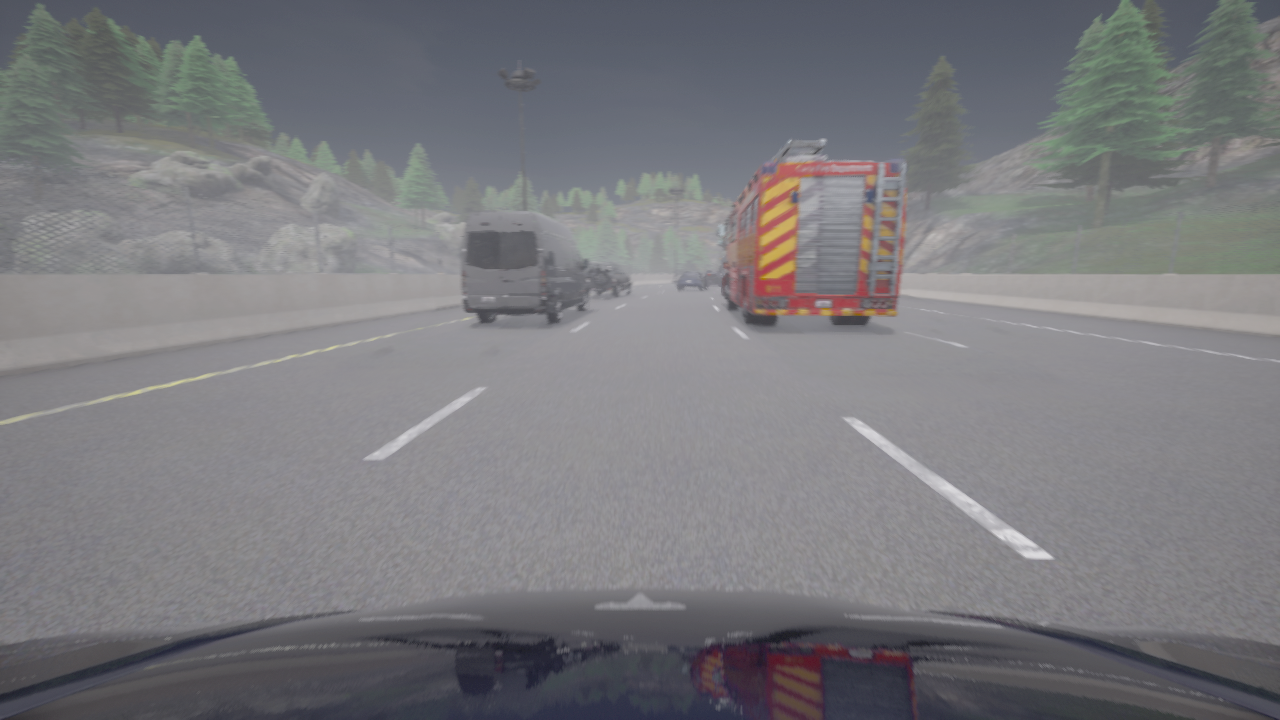cyclist: (0, 588, 1279, 719), (717, 139, 906, 326), (461, 212, 588, 323), (584, 261, 632, 297), (677, 272, 706, 290), (704, 271, 723, 285), (719, 257, 724, 274), (723, 275, 724, 277)
